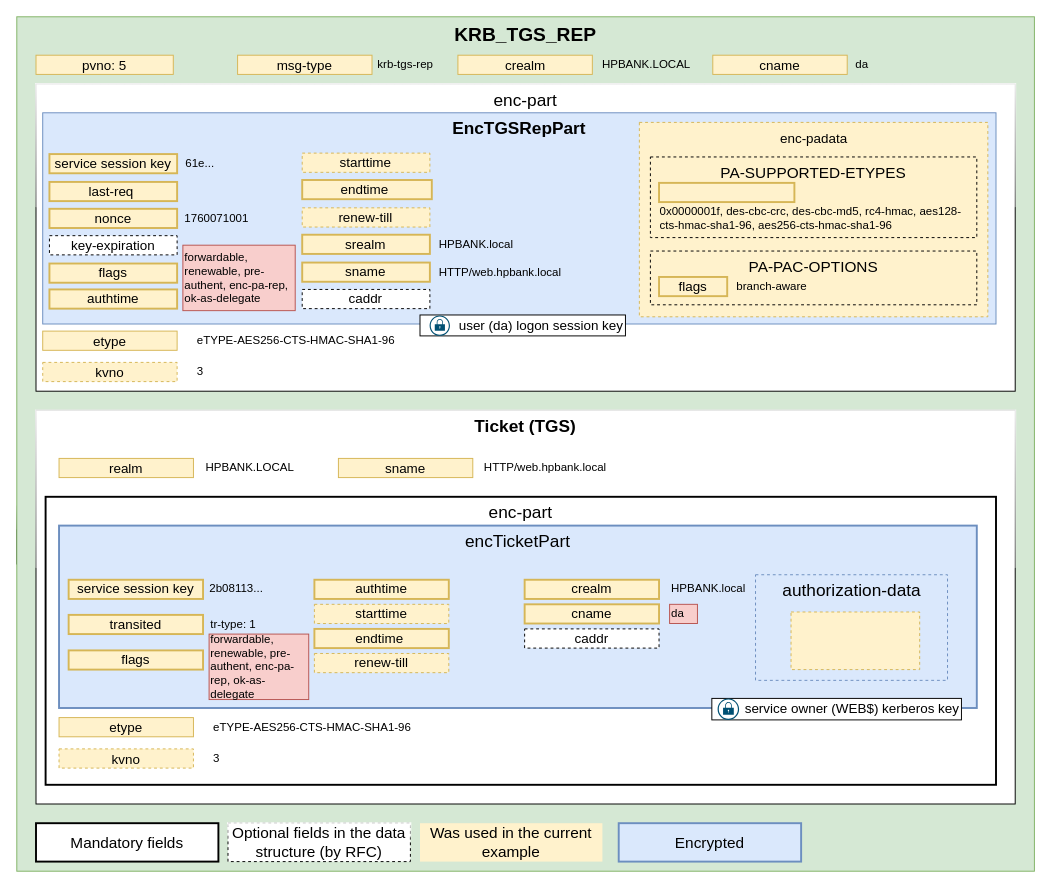
Some shapes in this 1051 by 888 pixel diagram are drawn without their labels. Each missing label, with the centre of its shape:
"PAC (da)" goes at [855,640].
"SupportedEnctypes" goes at [726,192].
